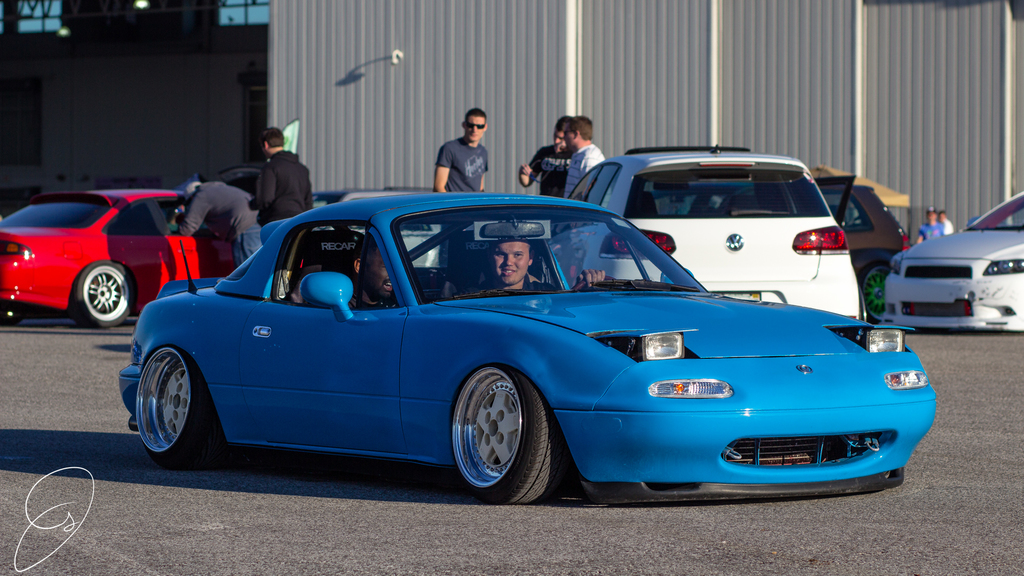Car: (0, 140, 1023, 505)
